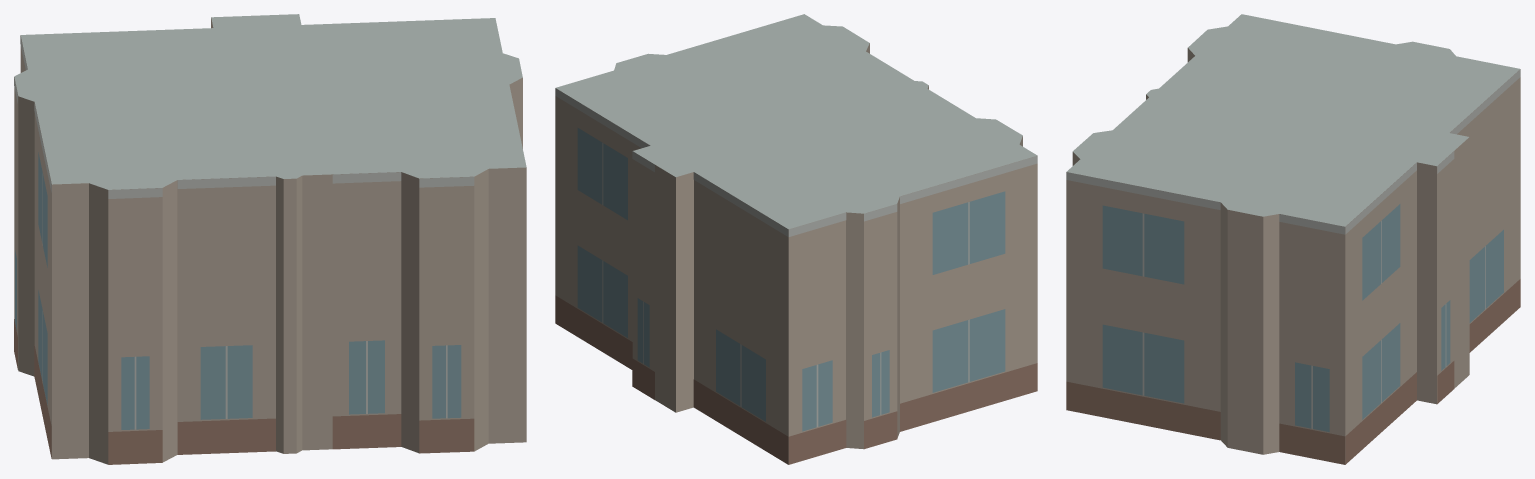
Rendered from survey-upis-32748890.glb.
3 views of the same model, side by side, from view 1: azimuth 30°, elevation 25°; view 2: azimuth 150°, elevation 25°; view 3: azimuth 270°, elevation 25° (orthographic). The views are drawn at different scales.
Visible parts, largest first — view 1: survey-upis-32748890.tmp; view 2: survey-upis-32748890.tmp; view 3: survey-upis-32748890.tmp.
Boxes of the visible parts, x1,y1,x2,y2 form: survey-upis-32748890.tmp: [14, 14, 526, 464]; survey-upis-32748890.tmp: [555, 14, 1037, 464]; survey-upis-32748890.tmp: [1066, 14, 1520, 464].
Bounding box in the file's own units: 14 × 7.3 × 12.63.
